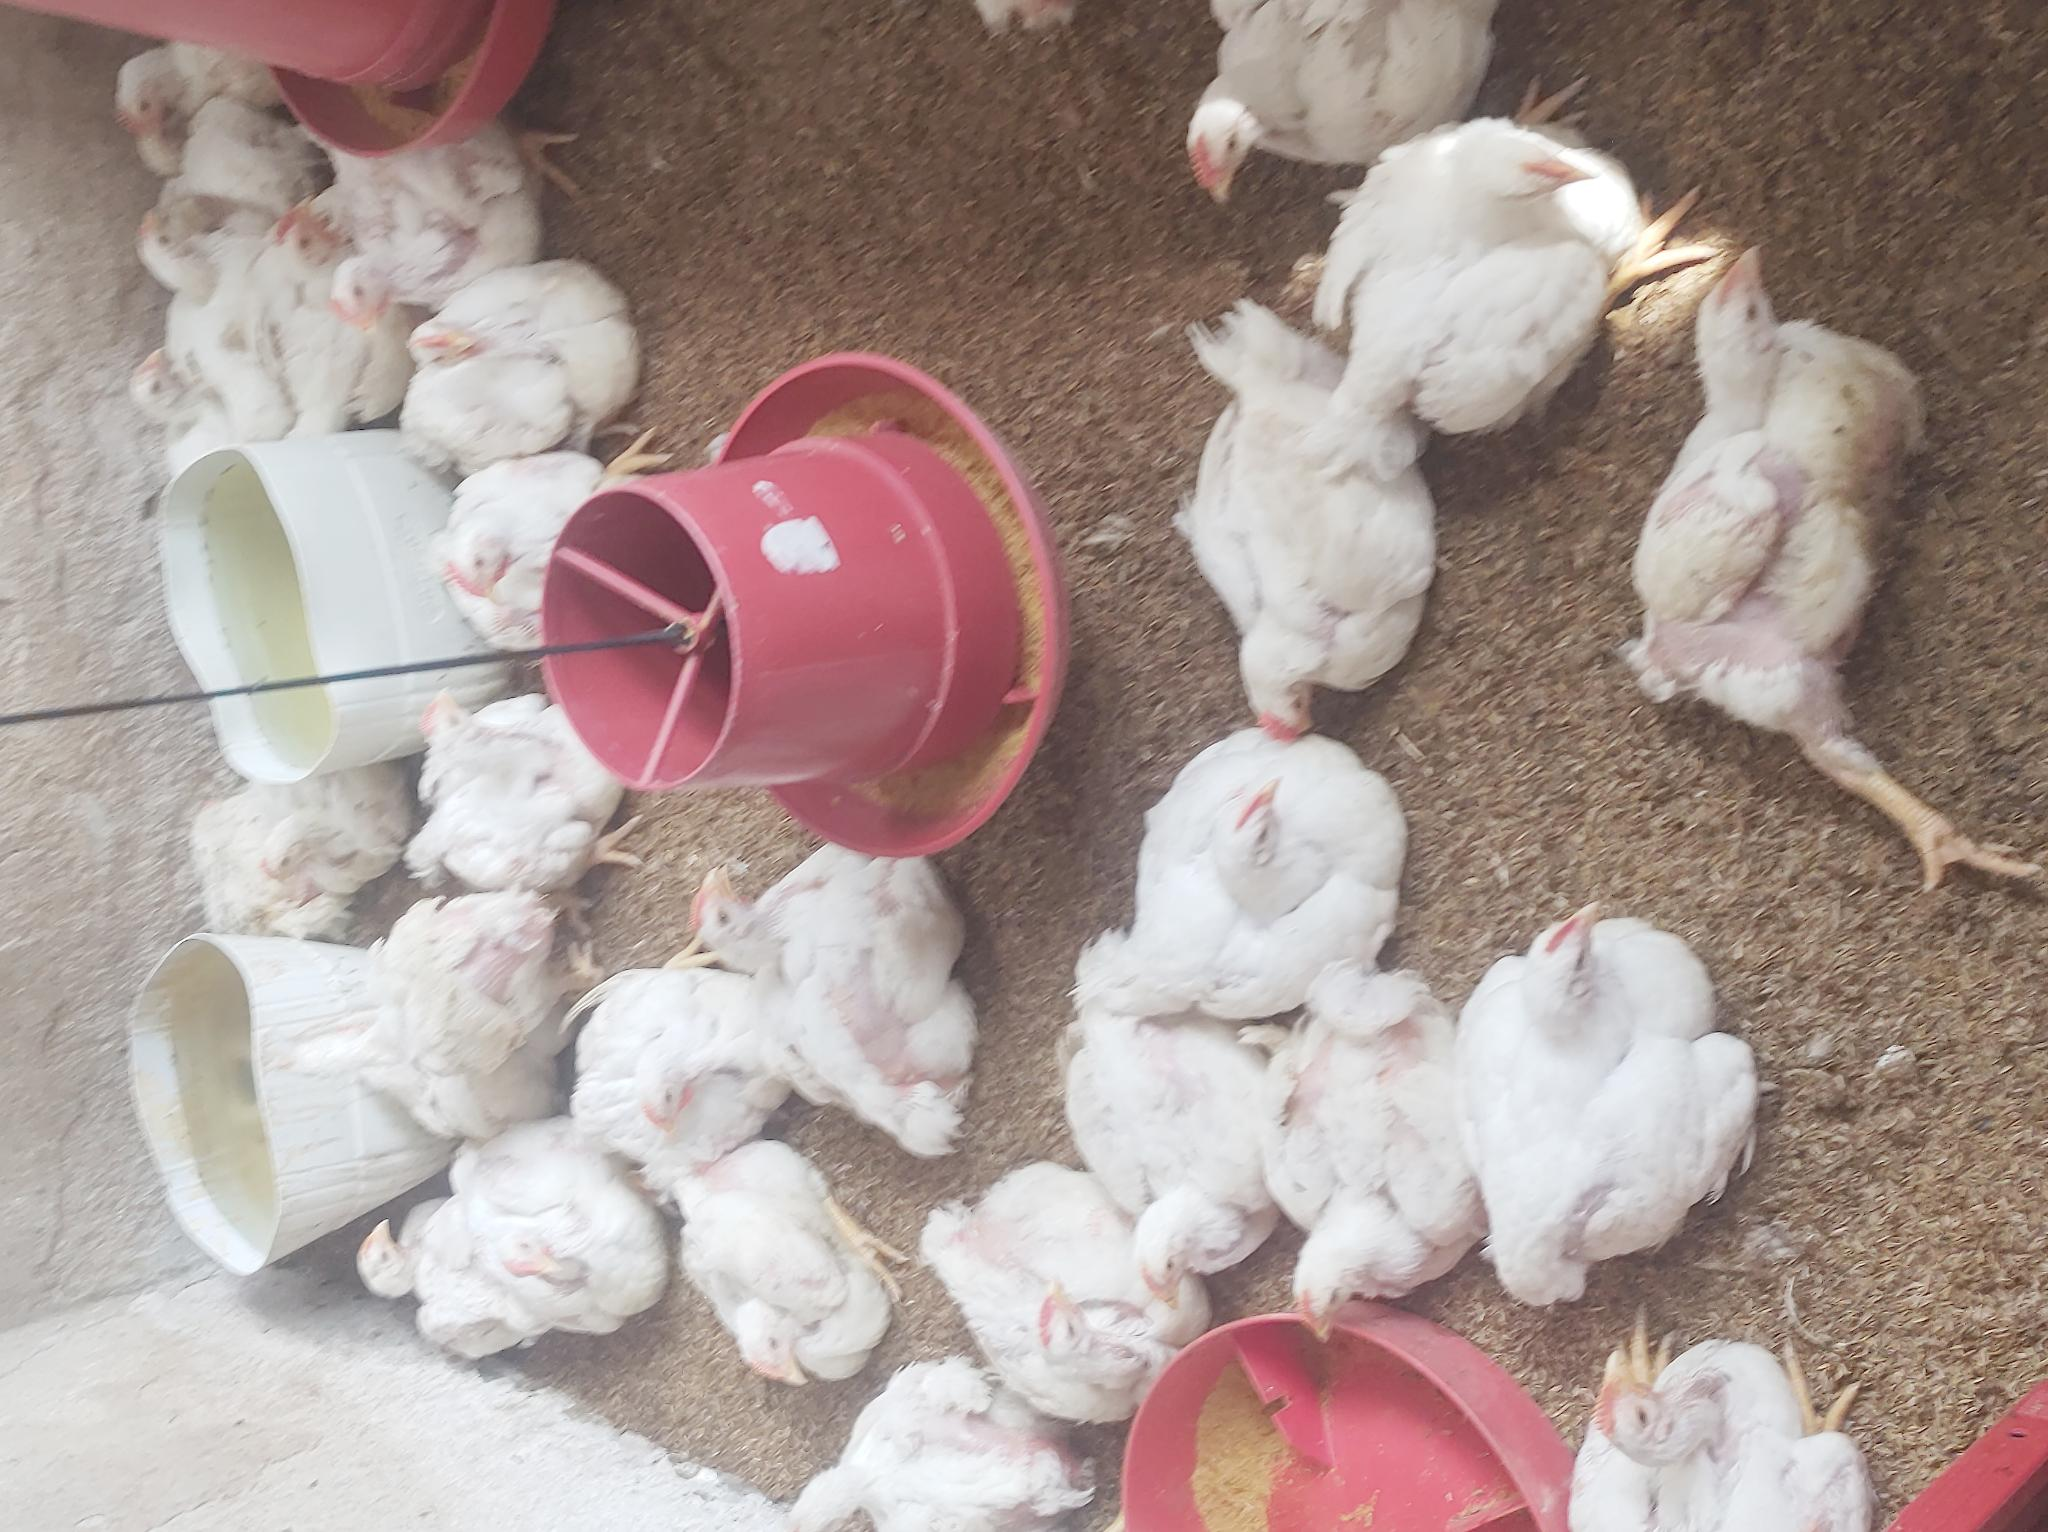Pollos: (1652, 232, 1939, 826), (1495, 887, 1763, 1303), (1168, 303, 1424, 711), (1115, 702, 1451, 1006), (1350, 108, 1643, 426), (1269, 937, 1482, 1357), (701, 850, 989, 1149), (1054, 927, 1285, 1297), (1174, 0, 1519, 235), (322, 1162, 677, 1371), (903, 1180, 1223, 1398), (393, 661, 655, 924), (1569, 1328, 1890, 1532), (331, 896, 590, 1146), (658, 1143, 951, 1353), (537, 951, 800, 1176), (837, 1340, 1125, 1532), (150, 748, 417, 954), (393, 269, 648, 460), (393, 454, 621, 658), (127, 216, 319, 333), (100, 340, 270, 470), (108, 18, 306, 111), (330, 229, 439, 356), (265, 195, 372, 286), (121, 101, 195, 180)
